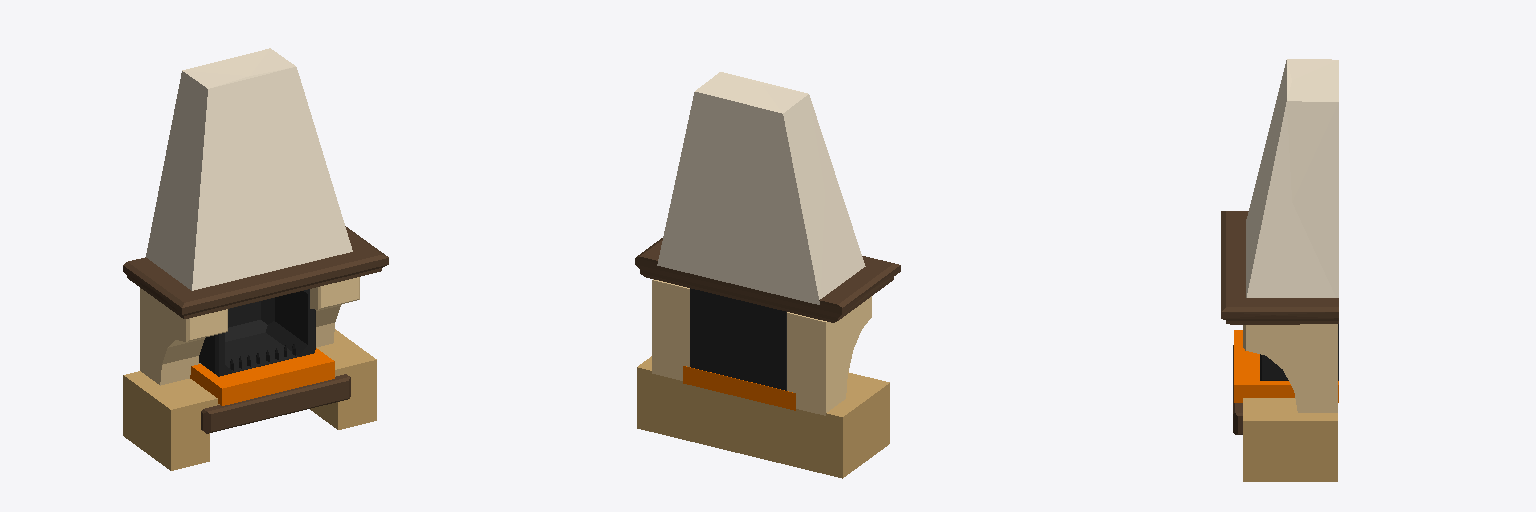
The model's file is fireplace.obj.
3 renders of one model, left to right at view 1: azimuth 30°, elevation 25°; view 2: azimuth 150°, elevation 25°; view 3: azimuth 270°, elevation 25°, orthographic.
Parts seen in each view (by area): view 1: hote_3, socle_reserve_bois_8, poutre_2, foyer_f_7, montantg_4, brique_5, poutre_bas_6, montantdr_1; view 2: hote_3, socle_reserve_bois_8, foyer_f_7, montantg_4, poutre_2, montantdr_1, brique_5; view 3: hote_3, socle_reserve_bois_8, montantdr_1, poutre_2, brique_5, foyer_f_7.
Boxes of the visible parts, box(x1,y1,x2,y2) form: hote_3: box(146, 48, 352, 290); socle_reserve_bois_8: box(123, 329, 376, 470); poutre_2: box(123, 226, 388, 318); foyer_f_7: box(199, 289, 315, 376); montantg_4: box(140, 288, 227, 385); brique_5: box(190, 348, 334, 405); poutre_bas_6: box(201, 374, 350, 433); montantdr_1: box(310, 277, 359, 347); hote_3: box(657, 72, 865, 304); socle_reserve_bois_8: box(637, 356, 889, 478); foyer_f_7: box(690, 288, 786, 390); montantg_4: box(787, 296, 871, 415); poutre_2: box(635, 238, 900, 322); montantdr_1: box(652, 279, 689, 380); brique_5: box(683, 366, 795, 410); hote_3: box(1246, 59, 1338, 297); socle_reserve_bois_8: box(1243, 398, 1337, 481); montantdr_1: box(1243, 324, 1337, 412); poutre_2: box(1221, 211, 1338, 324); brique_5: box(1234, 330, 1338, 402); foyer_f_7: box(1260, 324, 1338, 380).
Bounding box in the file's own units: 154 × 250 × 75.88.